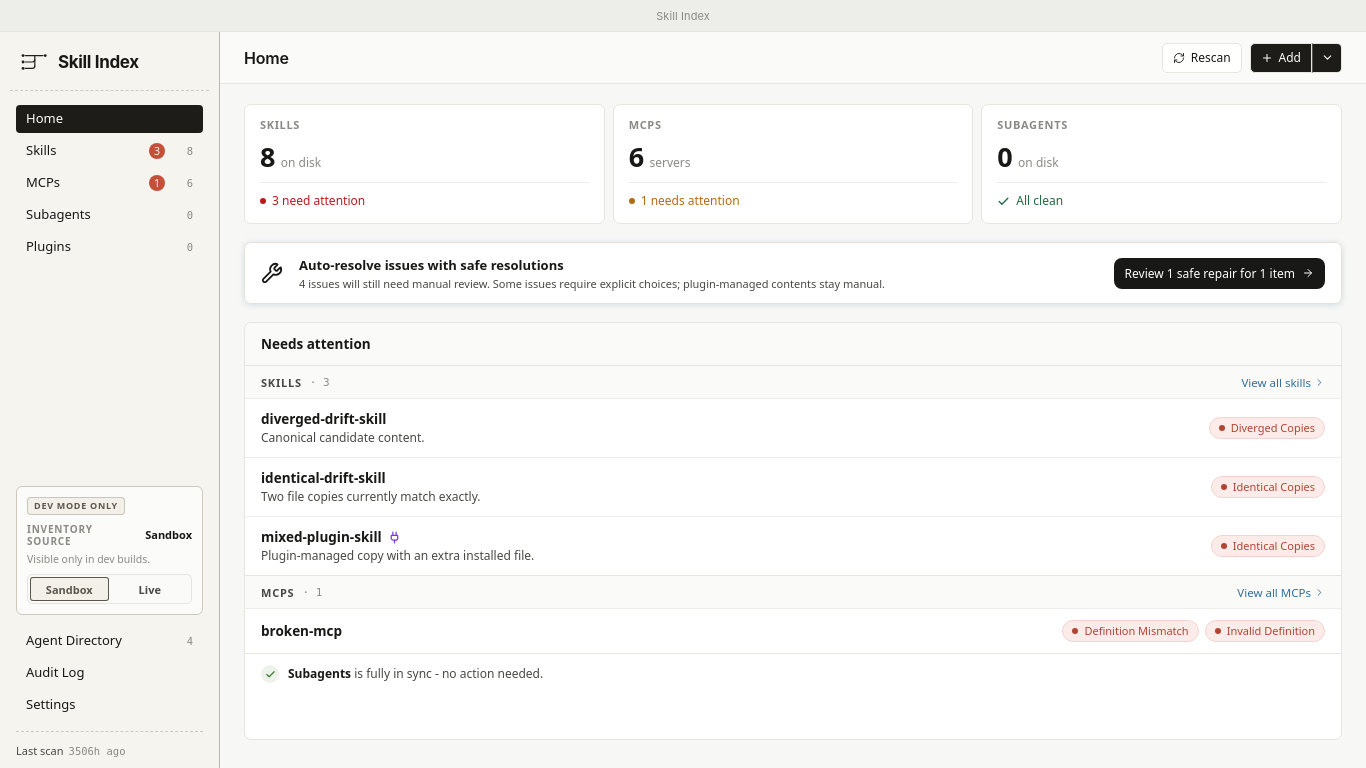
Test: App shell inventory views › opens Skill and MCP detail panes from Home actions without replacing the list pane
This screenshot has width=1366, height=768.
Click the button "diverged-drift-skill" at point(324, 419), box [245, 399, 1341, 458]
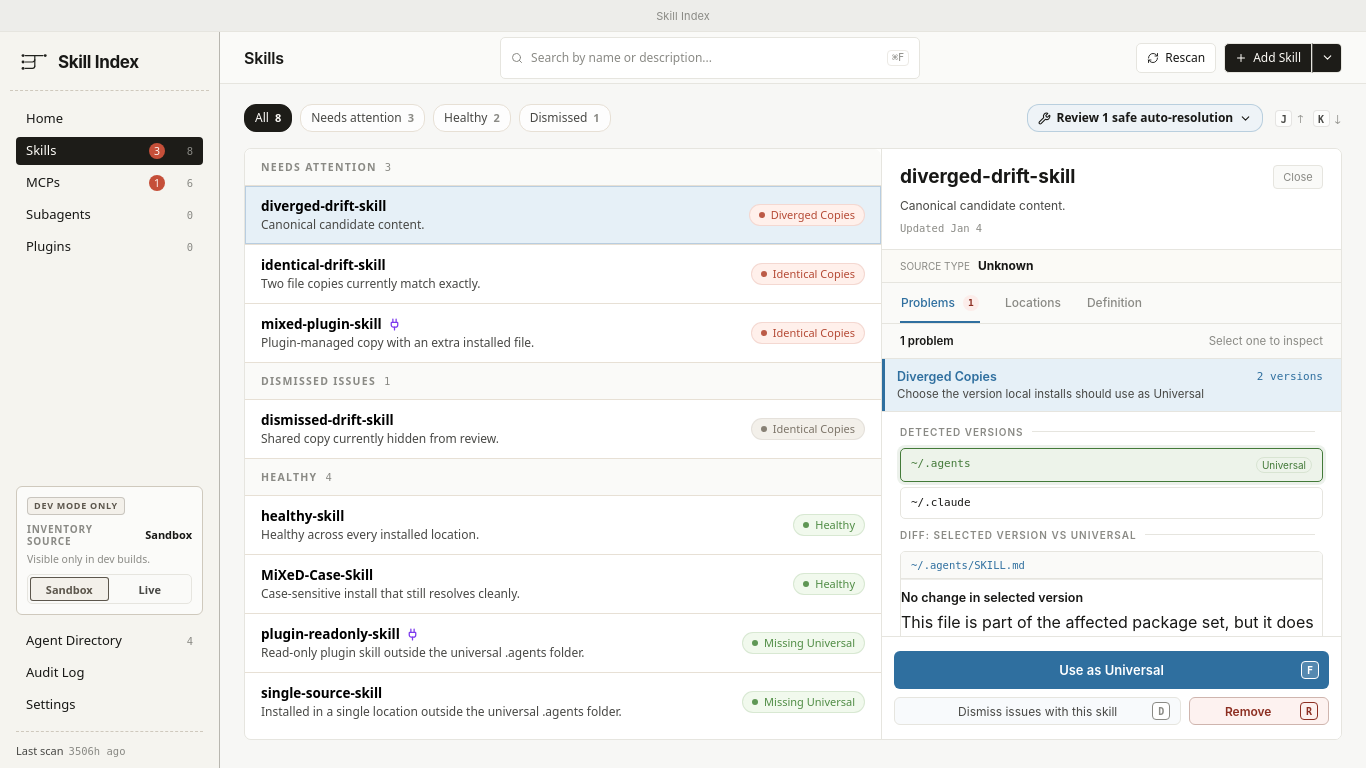
Now the heading "diverged-drift-skill" is shown, box [900, 166, 1075, 187]
Now the search field named "Search skills" is shown, box [531, 38, 879, 78]
Now the element named "Skills list" is shown, box [245, 149, 881, 739]
Click the button "Home" at point(110, 119), box [16, 105, 203, 133]
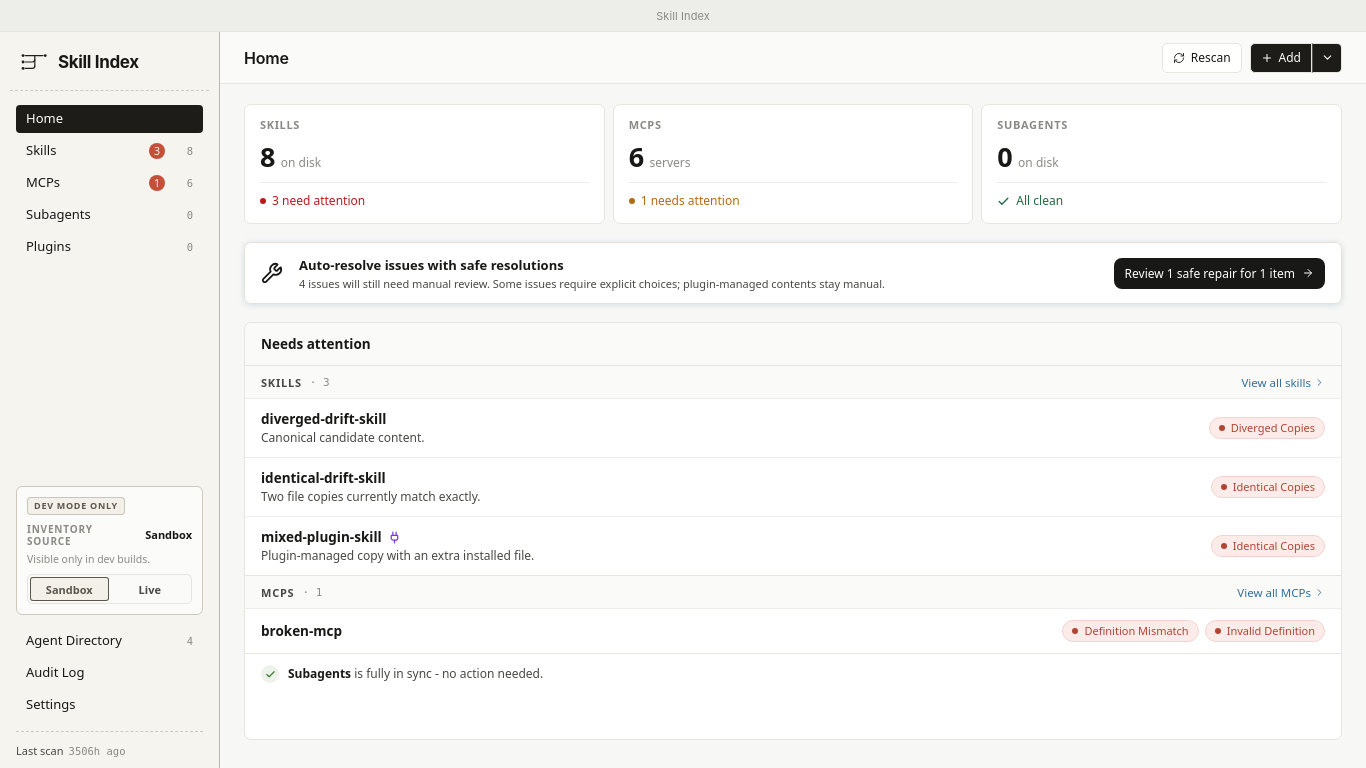
Now the heading "Home" is shown, box [244, 48, 289, 68]
Click the button "broken-mcp Definition Mismatch Invalid Definition" at point(302, 631), box [245, 609, 1341, 653]
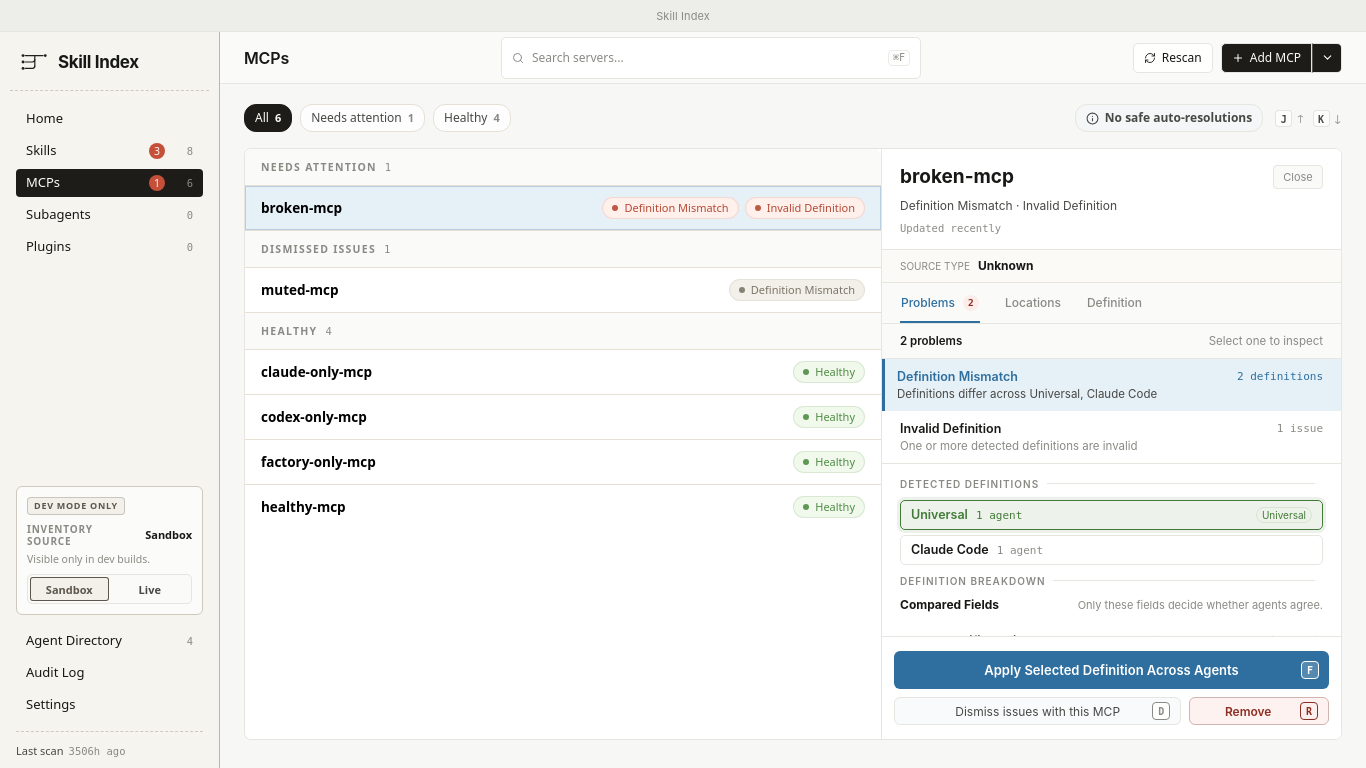
Now the heading "broken-mcp" is shown, box [900, 166, 1014, 187]
Now the search field named "Search MCPs" is shown, box [532, 38, 880, 78]
Now the element named "MCP list" is shown, box [245, 149, 881, 739]
